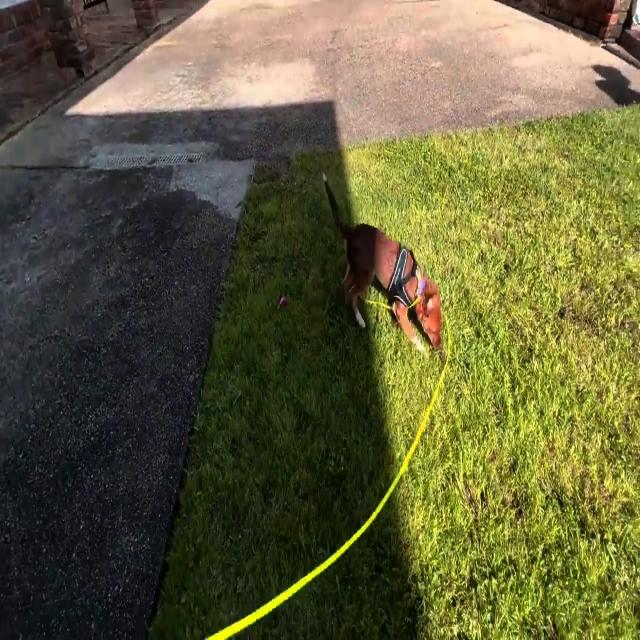Dog: (323, 173, 440, 355)
